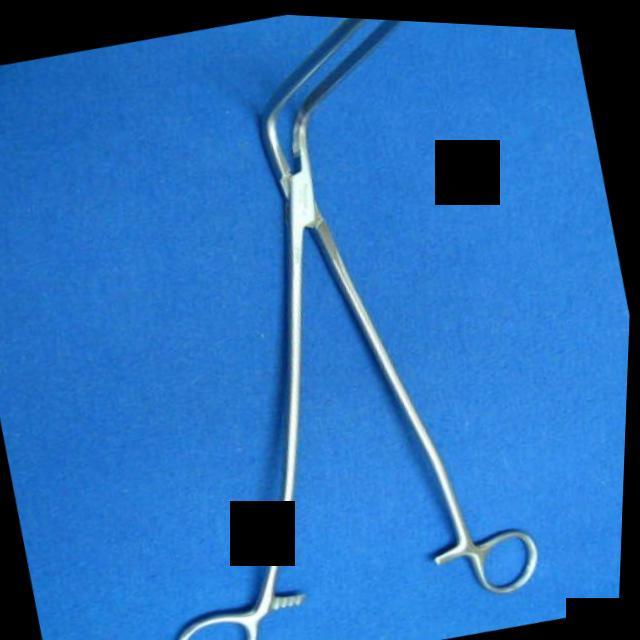Right Angle Colon Clamp: (34, 2, 589, 640)
